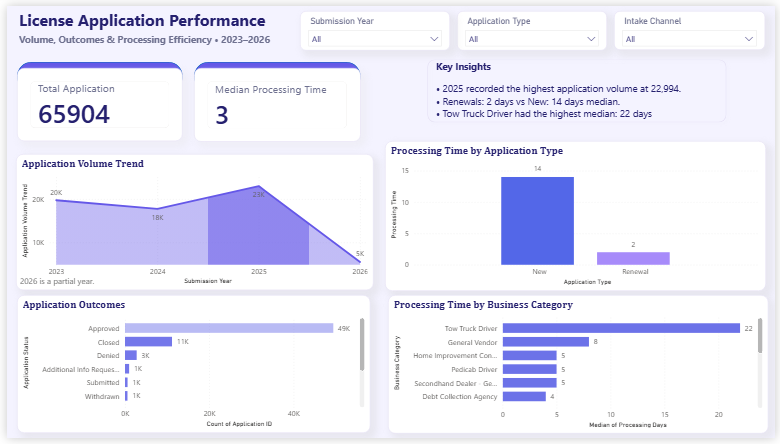

The dashboard page shown, as its layout file describes it:
{"tool":"powerbi","page":{"name":"Page 1","canvas":[1280,720],"ordinal":0},"visuals":[{"type":"shape","box":[312,92.6,277.7,48],"z":0},{"type":"cardVisual","fields":{"Data":["Median(cleaned_license_applications.Processing Days)"]},"box":[312,102.9,277.7,123.4],"z":1000},{"type":"lineChart","title":"Application Volume Trend","fields":{"Category":["cleaned_license_applications.Submission Year"],"Y":["CountNonNull(cleaned_license_applications.Application ID)"]},"box":[14.3,247.4,596.4,227.4],"z":2000},{"type":"clusteredColumnChart","fields":{"Category":["cleaned_license_applications.Application Type"],"Y":["Median(cleaned_license_applications.Processing Days)"]},"box":[630.7,224.5,635,250.3],"z":3000},{"type":"clusteredBarChart","title":"Application Outcomes ","fields":{"Category":["cleaned_license_applications.Application Status"],"Y":["CountNonNull(cleaned_license_applications.Application ID)"]},"box":[17.2,482,589.2,230.3],"z":4000},{"type":"clusteredBarChart","title":"Processing Time by Business Category","fields":{"Category":["cleaned_license_applications.Business Category"],"Y":["Median(cleaned_license_applications.Processing Days)"]},"box":[634.3,481.7,634.3,231.4],"z":5000},{"type":"textbox","box":[17.2,444.8,153,30],"z":6000},{"type":"textbox","box":[14.5,0,449.5,61.1],"z":7000},{"type":"textbox","box":[14.3,40,436.2,34.3],"z":8000},{"type":"slicer","fields":{"Values":["cleaned_license_applications.Application Type"]},"box":[749.4,8.6,250.3,65.8],"z":9000},{"type":"slicer","fields":{"Values":["cleaned_license_applications.Submission Year"]},"box":[487.7,8.6,250.3,65.8],"z":10000},{"type":"slicer","fields":{"Values":["cleaned_license_applications.Intake Channel"]},"box":[1010.9,9.1,251.6,65.5],"z":11000},{"type":"shape","box":[17.5,93.1,276.4,48],"z":12000},{"type":"shape","box":[692.2,80.1,516.3,123],"z":14000},{"type":"textbox","box":[709.8,122.2,459.6,81.5],"z":15000},{"type":"textbox","box":[710,85.7,158.5,36.4],"z":16000},{"type":"cardVisual","title":"Tota","fields":{"Data":["CountNonNull(cleaned_license_applications.Application ID)"]},"box":[17.5,103.3,276.4,122.2],"z":17000}]}

Visuals, with their boxes in screenshot pixels (x1, y1, x2, y2), scaled from the page's 1280x720 canvas onto the 780x444 screenshot:
shape: left=190, top=57, right=359, bottom=87
cardVisual - Median(cleaned_license_applications.Processing Days): left=190, top=63, right=359, bottom=140
"Application Volume Trend" lineChart: left=9, top=153, right=372, bottom=293
clusteredColumnChart - cleaned_license_applications.Application Type x Median(cleaned_license_applications.Processing Days): left=384, top=138, right=771, bottom=293
"Application Outcomes " clusteredBarChart: left=10, top=297, right=370, bottom=439
"Processing Time by Business Category" clusteredBarChart: left=387, top=297, right=773, bottom=440
textbox: left=10, top=274, right=104, bottom=293
textbox: left=9, top=0, right=283, bottom=38
textbox: left=9, top=25, right=275, bottom=46
slicer - cleaned_license_applications.Application Type: left=457, top=5, right=609, bottom=46
slicer - cleaned_license_applications.Submission Year: left=297, top=5, right=450, bottom=46
slicer - cleaned_license_applications.Intake Channel: left=616, top=6, right=769, bottom=46
shape: left=11, top=57, right=179, bottom=87
shape: left=422, top=49, right=736, bottom=125
textbox: left=433, top=75, right=713, bottom=126
textbox: left=433, top=53, right=529, bottom=75
"Tota" cardVisual: left=11, top=64, right=179, bottom=139
